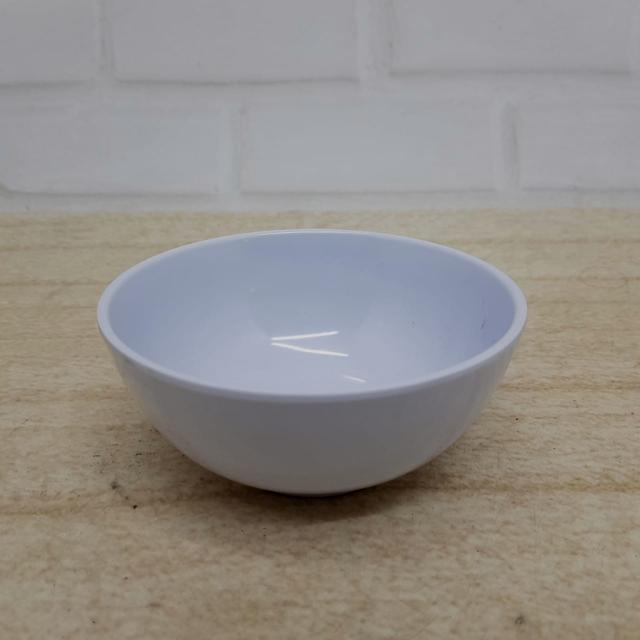Mangkok: (76, 227, 535, 525)
